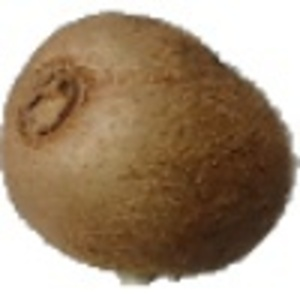kiwi: (1, 10, 300, 288)
